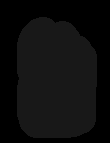fp: (12, 13, 97, 139)
